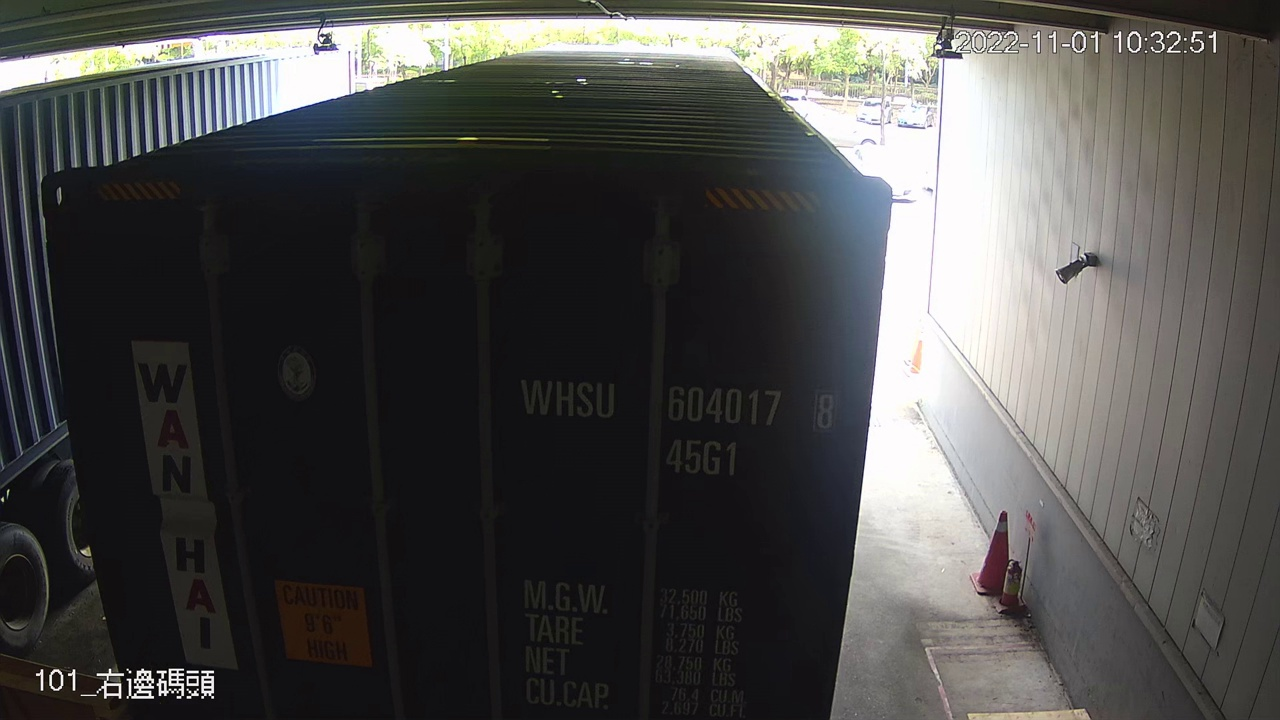container: (508, 368, 843, 479)
